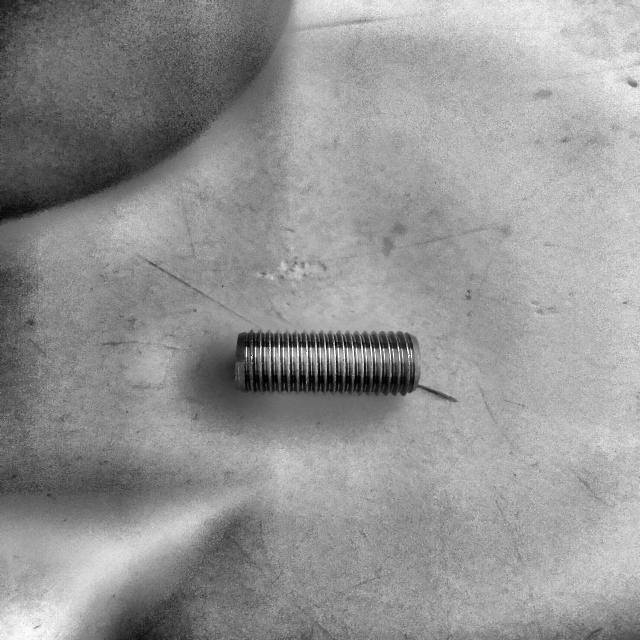Normal: (233, 328, 421, 400)
